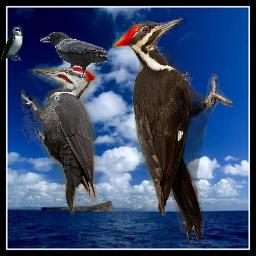Crow: (40, 32, 107, 77)
Swallow: (1, 26, 23, 61)
Woodpecker: (112, 17, 233, 245), (21, 67, 97, 216)
